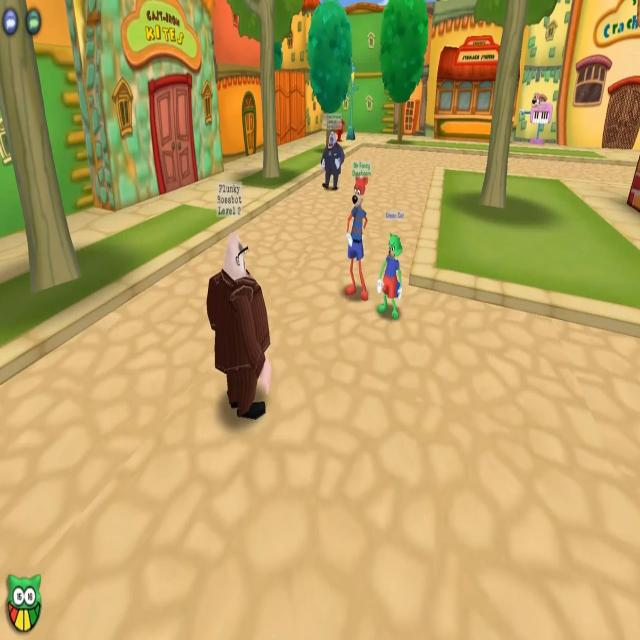bottomfeeder: (319, 110, 345, 193)
flunky: (205, 179, 272, 427)
